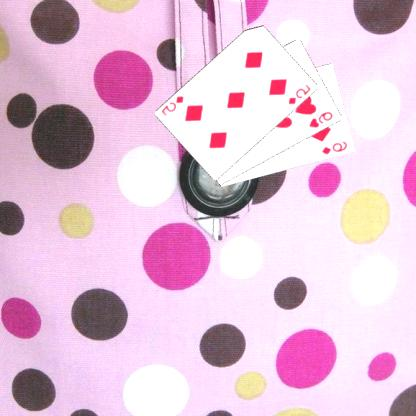5D: (288, 82, 314, 106), (161, 93, 187, 117)
6D: (321, 138, 350, 156)
9H: (308, 109, 336, 129)
